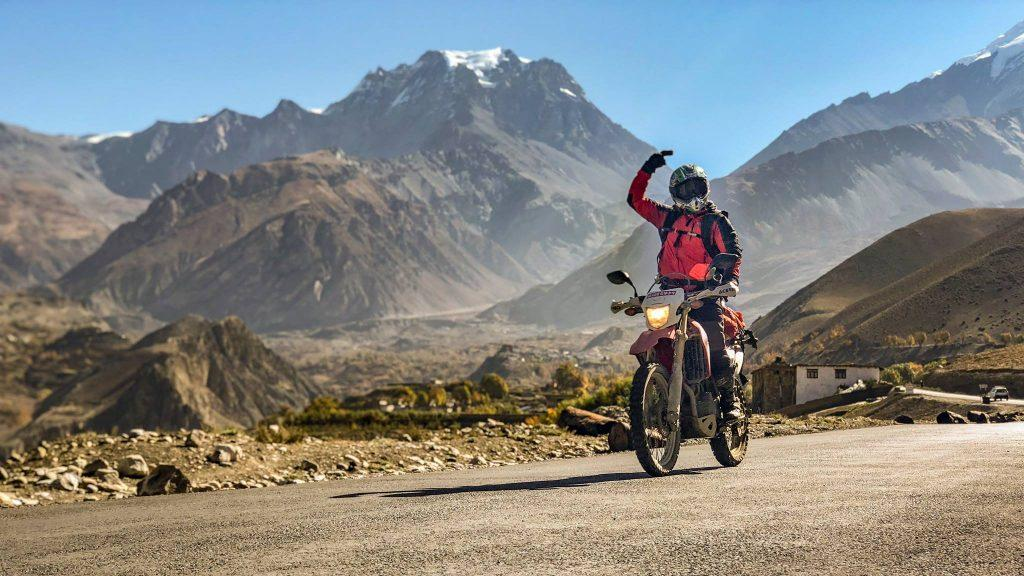bike: (597, 248, 764, 484)
